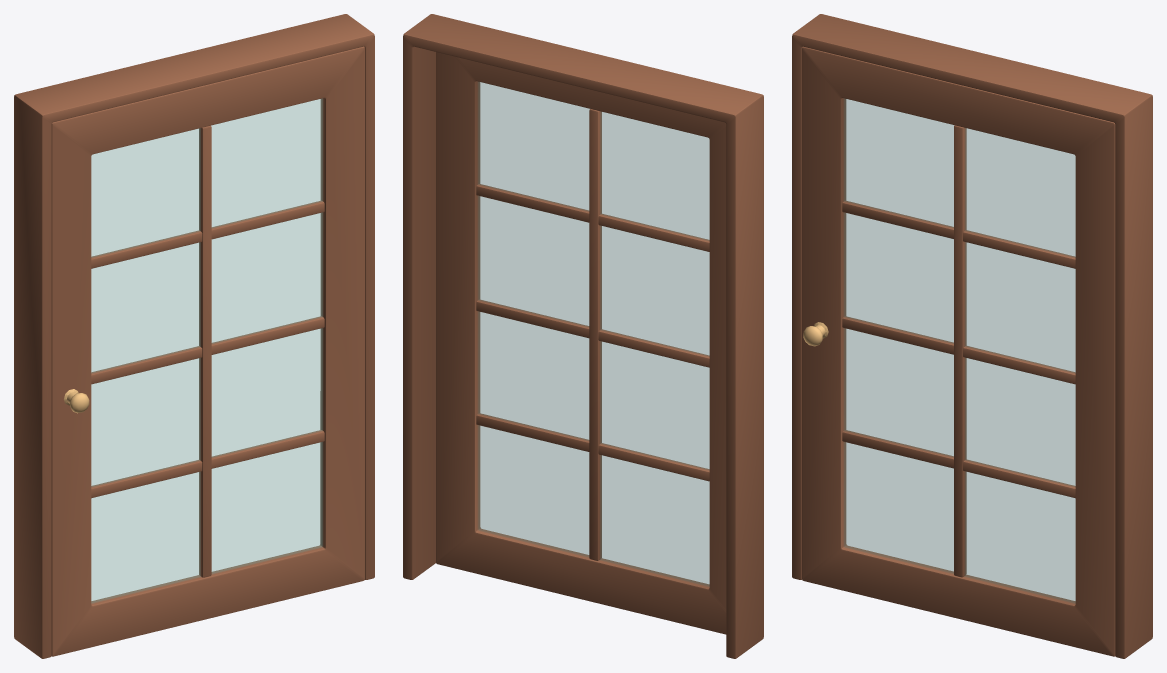
Rendered from door_only.glb.
The picture shows the model from 3 angles, left to right: view 1: azimuth 30°, elevation 25°; view 2: azimuth 150°, elevation 25°; view 3: azimuth 330°, elevation 25°; orthographic projection.
Visible parts, largest first — view 1: door.001; view 2: door.001; view 3: door.001.
Part boxes in pixels (x1=…): door.001: x1=14, y1=14, x2=374, y2=658; door.001: x1=403, y1=14, x2=763, y2=658; door.001: x1=792, y1=14, x2=1152, y2=658.
Size of the model in its own units: 1.01 by 1.57 by 0.2099.
